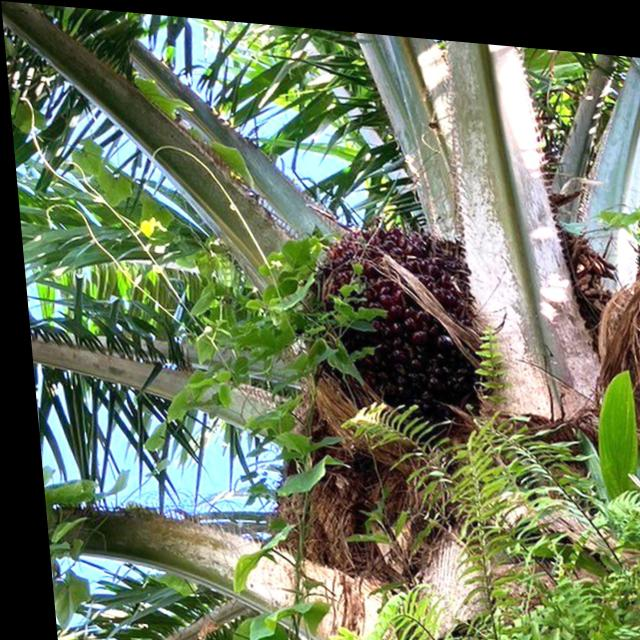ripe: (314, 219, 478, 414)
